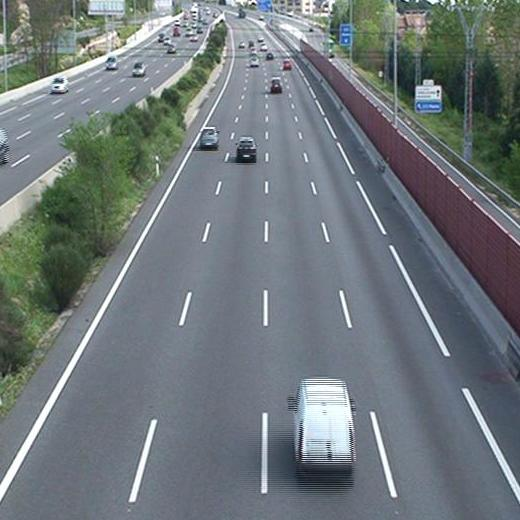car: (235, 137, 257, 161), (199, 127, 219, 148), (270, 78, 284, 93), (249, 56, 260, 68), (282, 59, 292, 71)
van: (288, 379, 357, 477)
